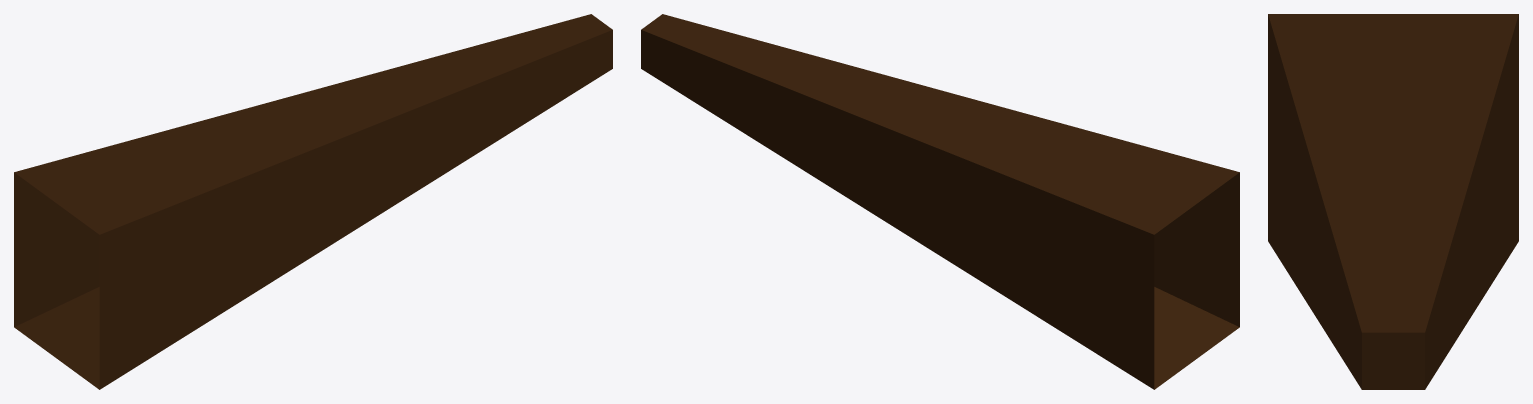
File: Branch.fbx
3 renders of one model, left to right at view 1: azimuth 30°, elevation 25°; view 2: azimuth 150°, elevation 25°; view 3: azimuth 270°, elevation 25°, orthographic. The views are drawn at different scales.
Parts seen in each view (by area): view 1: Branch; view 2: Branch; view 3: Branch.
Part boxes in pixels (x1=…): Branch: x1=14, y1=14, x2=612, y2=389; Branch: x1=641, y1=14, x2=1239, y2=389; Branch: x1=1268, y1=14, x2=1518, y2=389.
Size of the model in its own units: 361 by 129 by 98.22.
